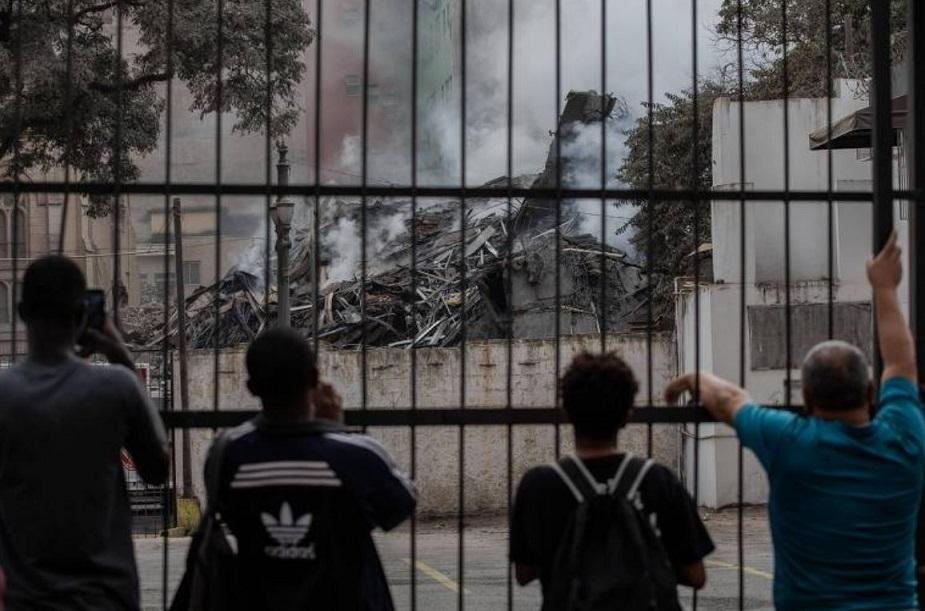smoke: (305, 48, 367, 123)
